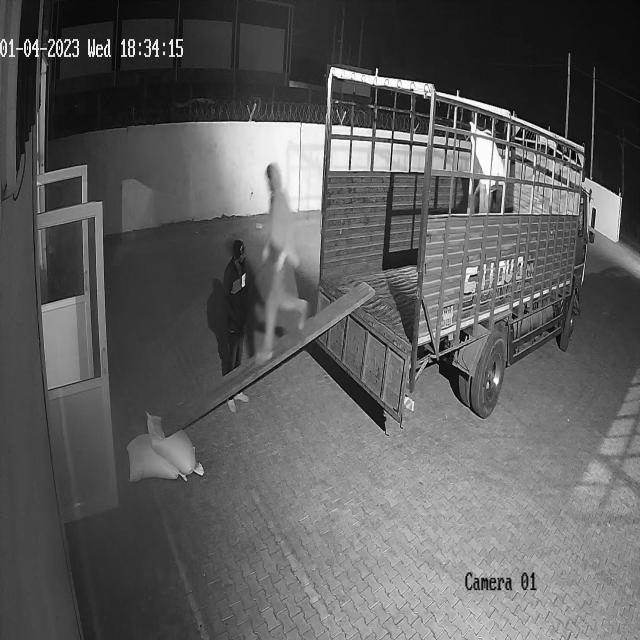sack: (145, 411, 206, 476), (126, 432, 187, 480), (469, 122, 504, 186)
